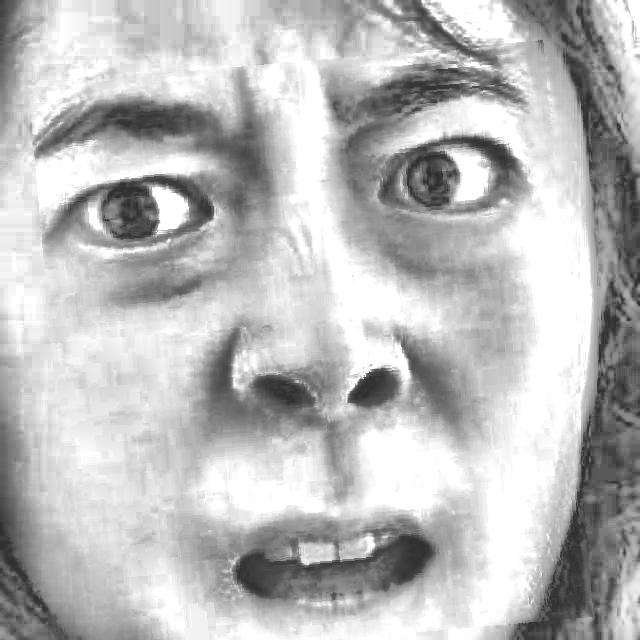angry: (40, 50, 581, 640)
